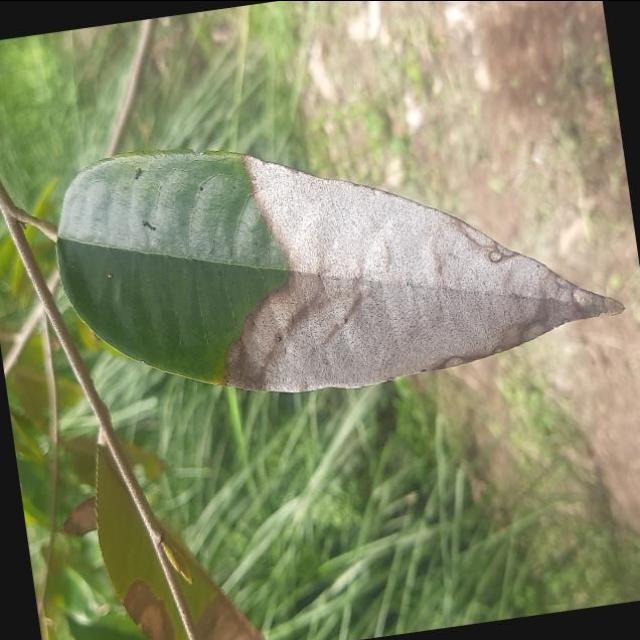Leaf Blight: (30, 80, 638, 443)
